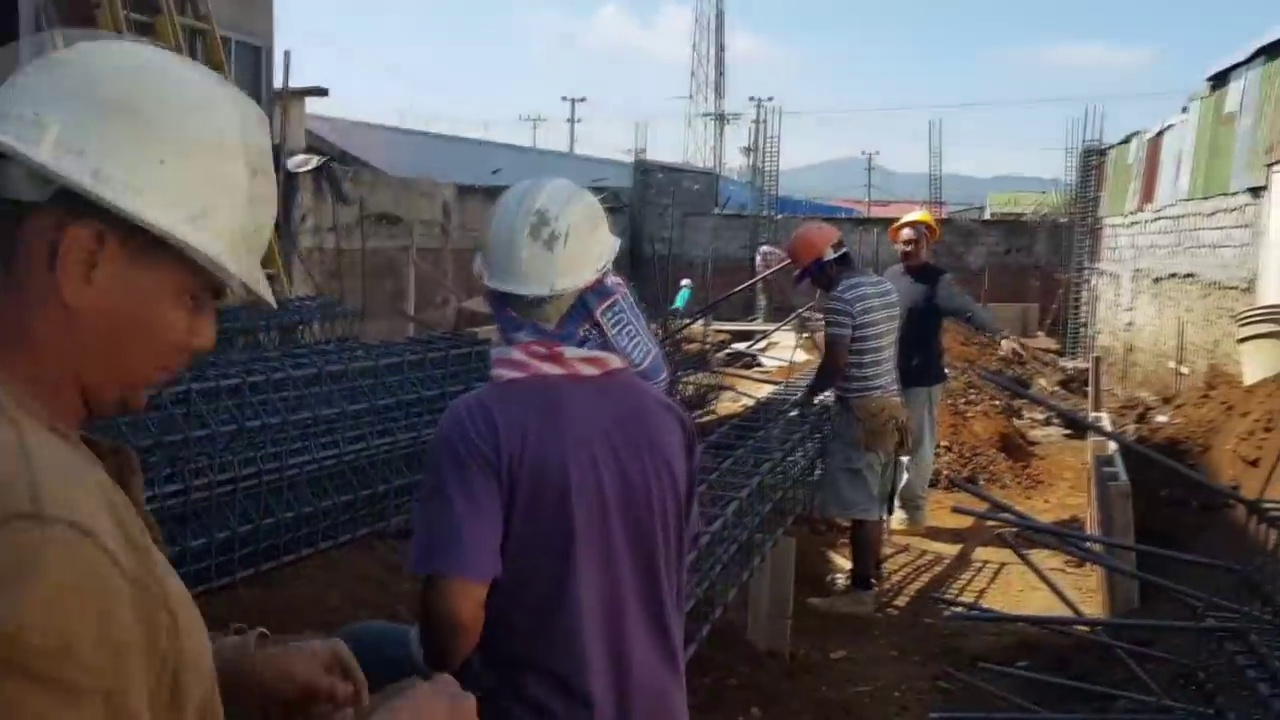helmet: (6, 36, 278, 306), (471, 176, 617, 304), (790, 225, 846, 269), (888, 208, 944, 243), (680, 280, 693, 287)
helmet-off: (755, 234, 770, 250)
helmet-on: (7, 36, 277, 455), (465, 170, 645, 374), (790, 223, 860, 293), (888, 207, 944, 266), (679, 279, 693, 293)
person: (7, 41, 321, 720), (416, 164, 706, 720), (784, 224, 901, 596), (887, 206, 989, 532), (753, 232, 787, 325), (670, 280, 693, 315)
